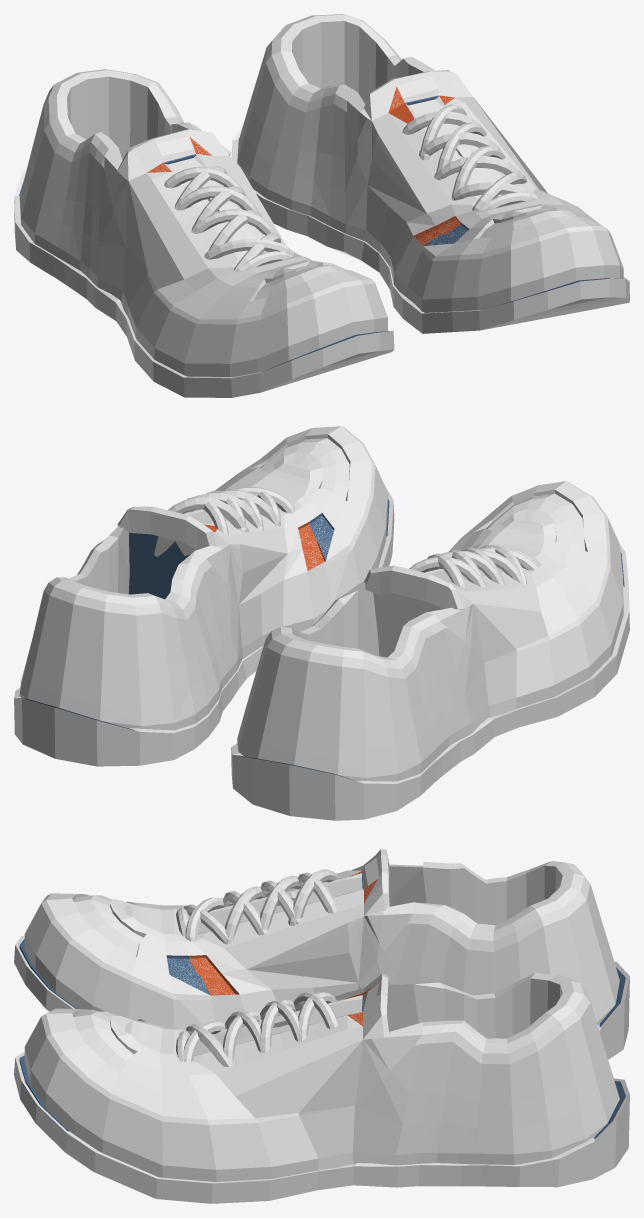
File: RunningShoes.fbx
3 views of the same model, one above another, from view 1: azimuth 30°, elevation 25°; view 2: azimuth 150°, elevation 25°; view 3: azimuth 270°, elevation 25° (orthographic). The views are drawn at different scales.
Parts seen in each view (by area): view 1: Plane.001; view 2: Plane.001; view 3: Plane.001.
Part boxes in pixels (<box>): Plane.001: <box>14,14,629,397</box>; Plane.001: <box>14,426,629,820</box>; Plane.001: <box>14,849,629,1203</box>.
Bounding box in the file's own units: 11.81 × 4.22 × 13.8.
